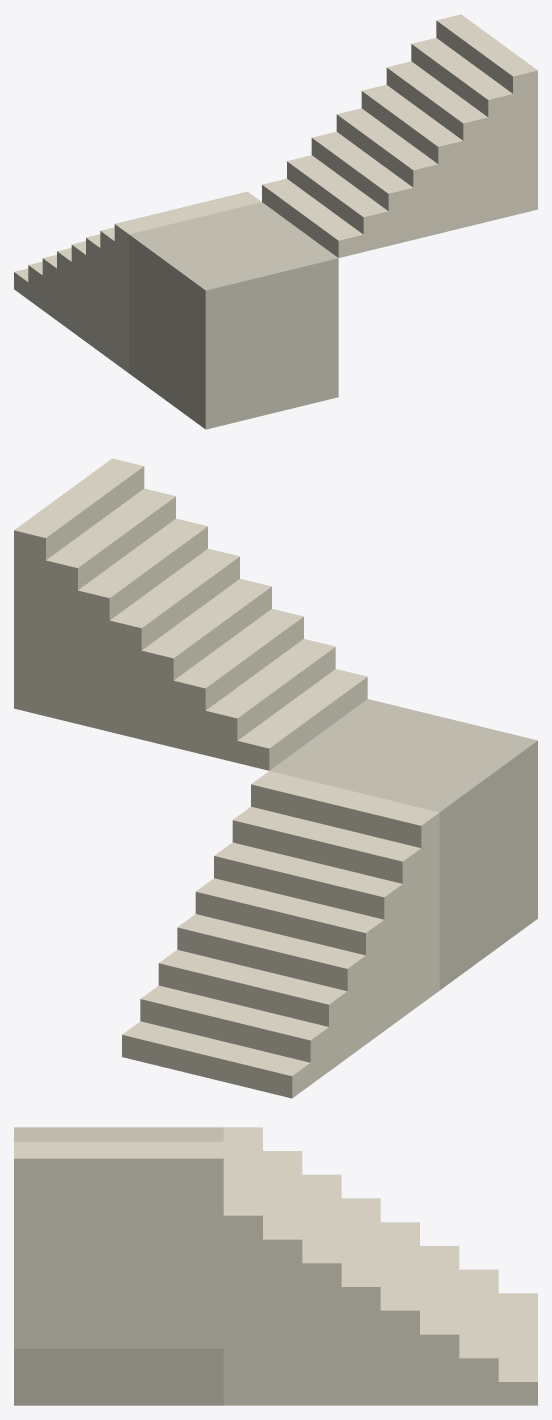
File: stairs-quarter-turn.glb
The picture shows the model from 3 angles, top to bottom: view 1: azimuth 30°, elevation 25°; view 2: azimuth 150°, elevation 25°; view 3: azimuth 270°, elevation 25°; orthographic projection. The views are drawn at different scales.
Visible parts, largest first — view 1: stairs-quarter-turn; view 2: stairs-quarter-turn; view 3: stairs-quarter-turn.
Part boxes in pixels (x1=…): stairs-quarter-turn: x1=14, y1=14, x2=537, y2=429; stairs-quarter-turn: x1=14, y1=458, x2=537, y2=1098; stairs-quarter-turn: x1=14, y1=1127, x2=537, y2=1405.
Size of the model in its own units: 5 by 4 by 5.
